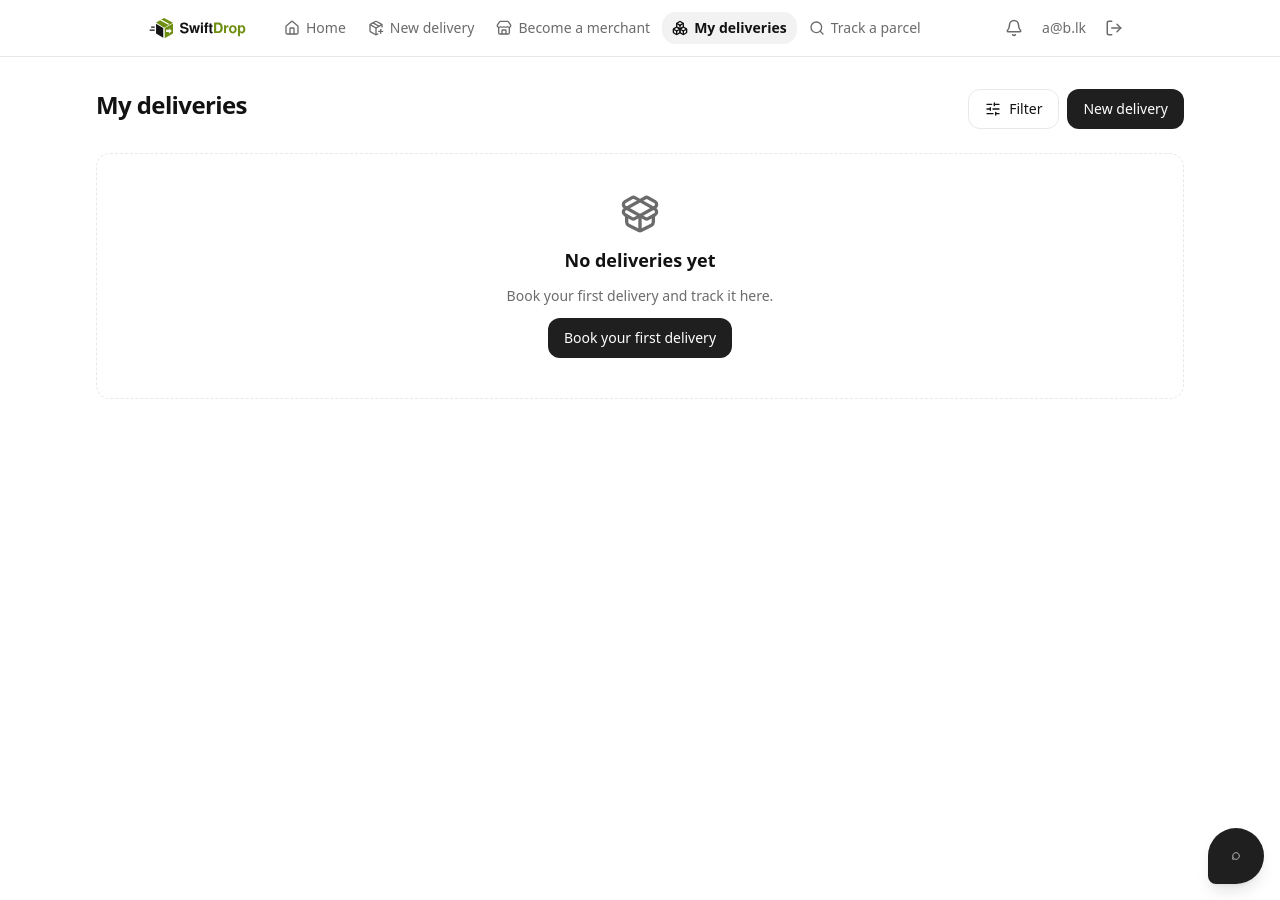
assistant widget › stops a reply in progress by aborting the request it started
Click the button named "Open assistant" at (1236, 856), box [1208, 828, 1264, 884]
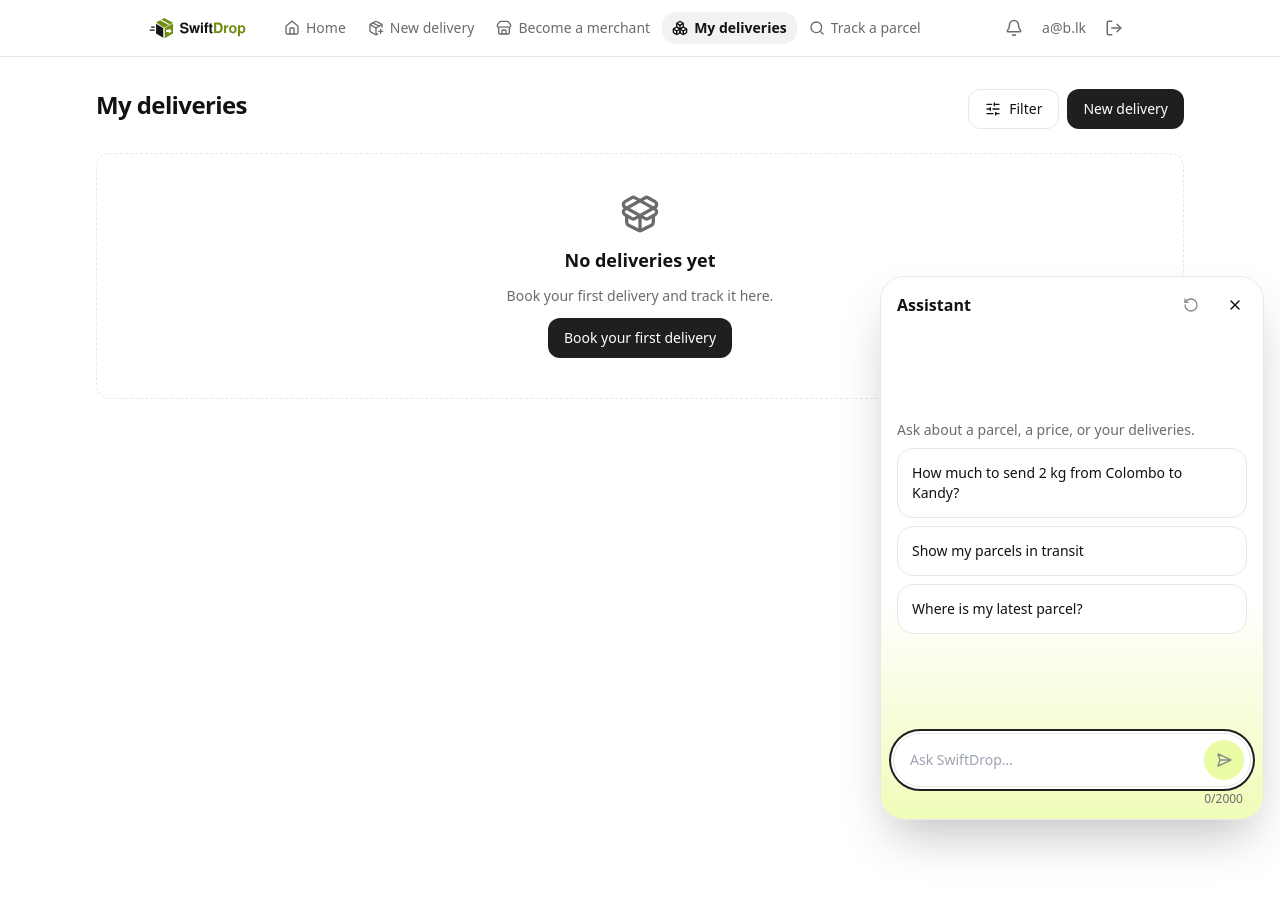
Type "long one" into the text box named "Message" at (1053, 760), box [910, 740, 1196, 780]
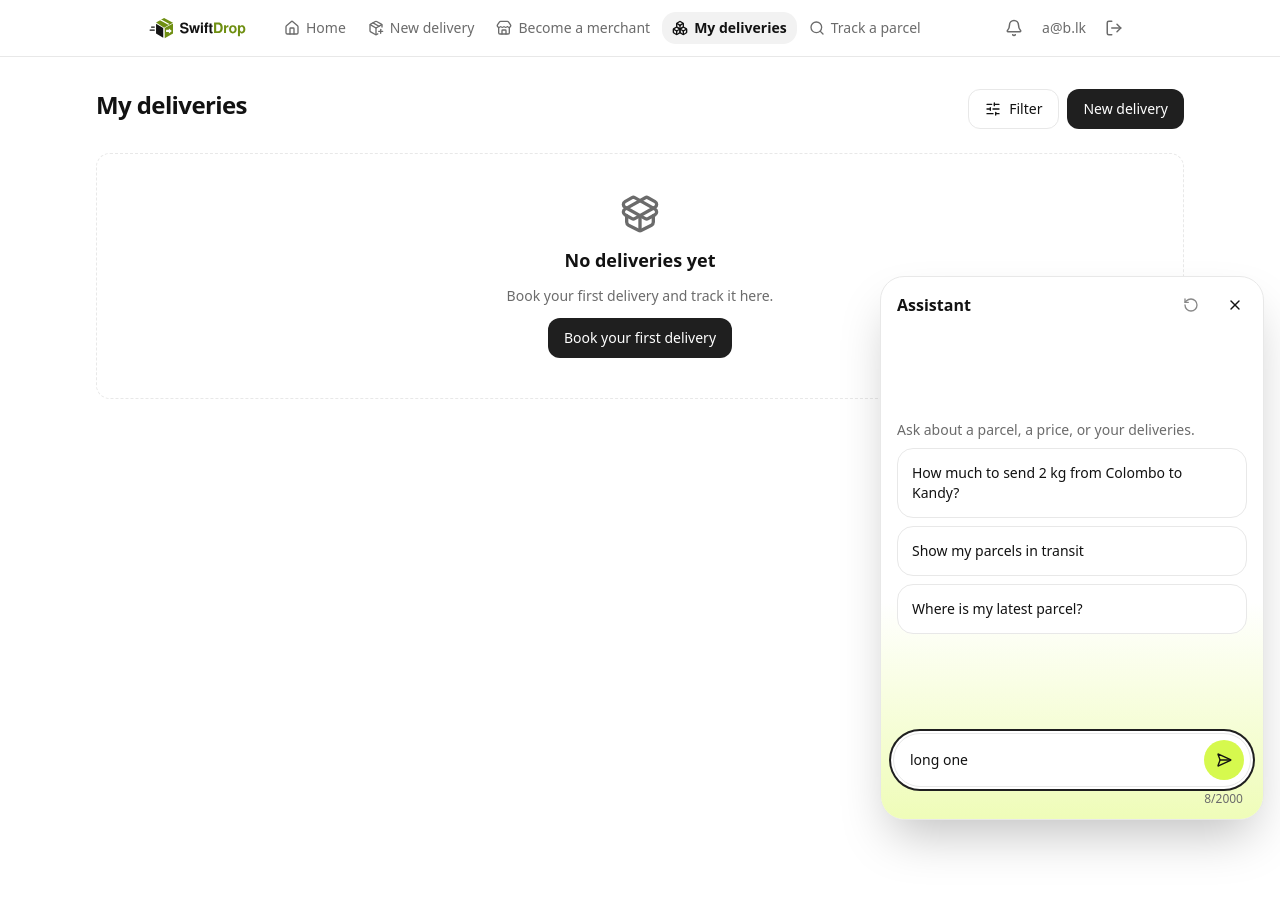
Click the button named "Send" at (1224, 760), box [1204, 740, 1244, 780]
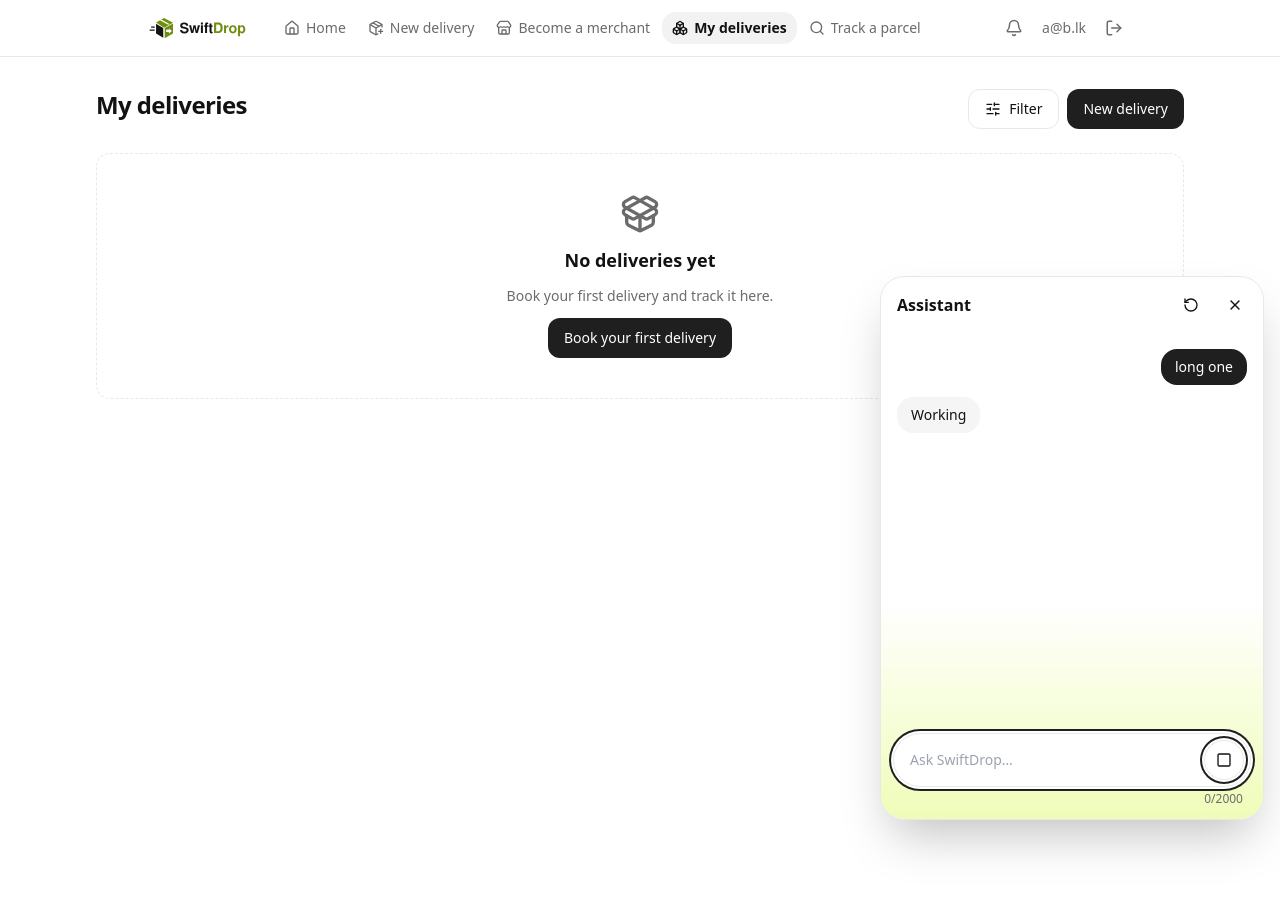
Expected: the text "Working" is shown, [911, 405, 966, 425]
Click the button named "Stop" at (1224, 760), box [1204, 740, 1244, 780]
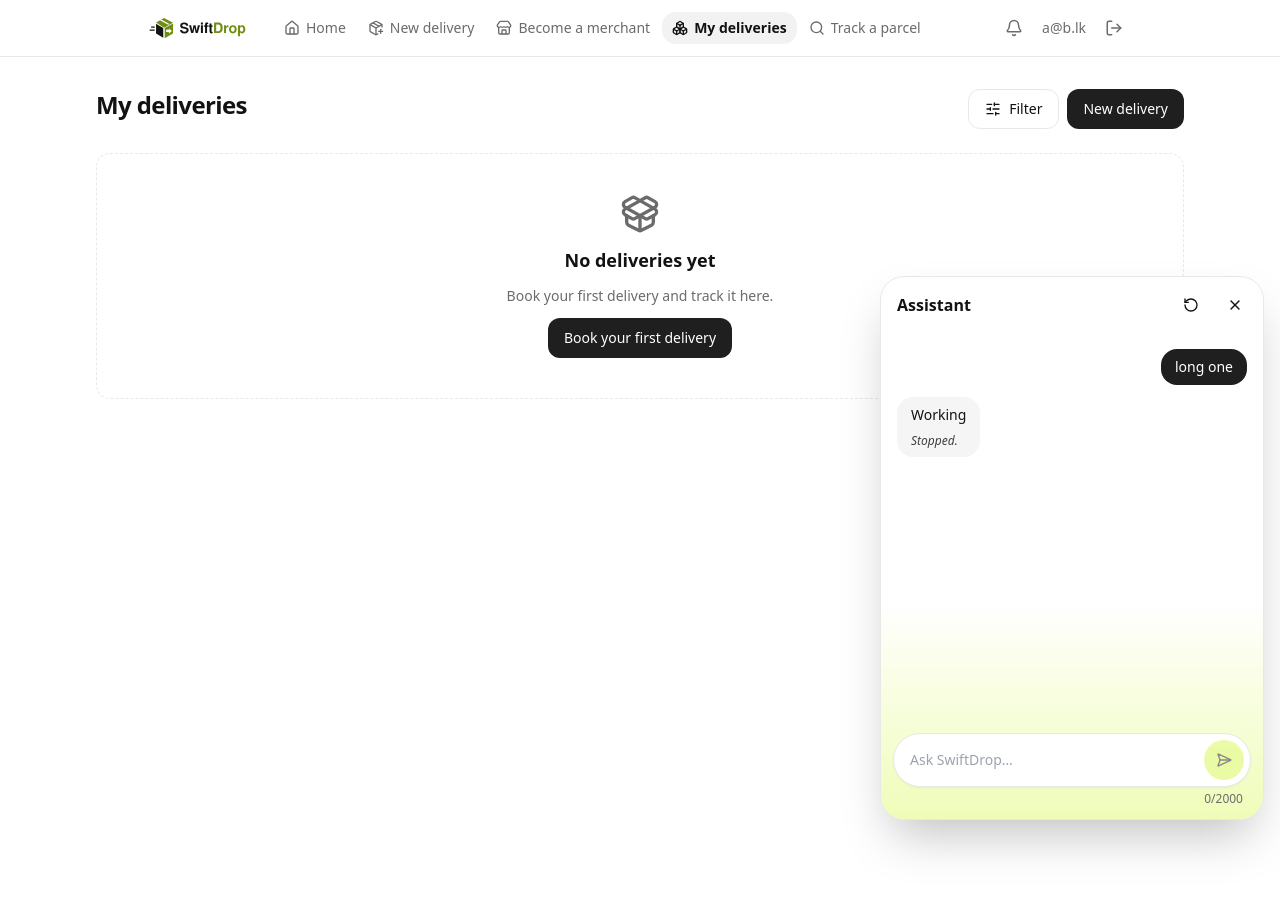
Expected: the text "Stopped." is shown, [911, 432, 958, 449]
Expected: the button named "Send" is shown, [1204, 740, 1244, 780]
